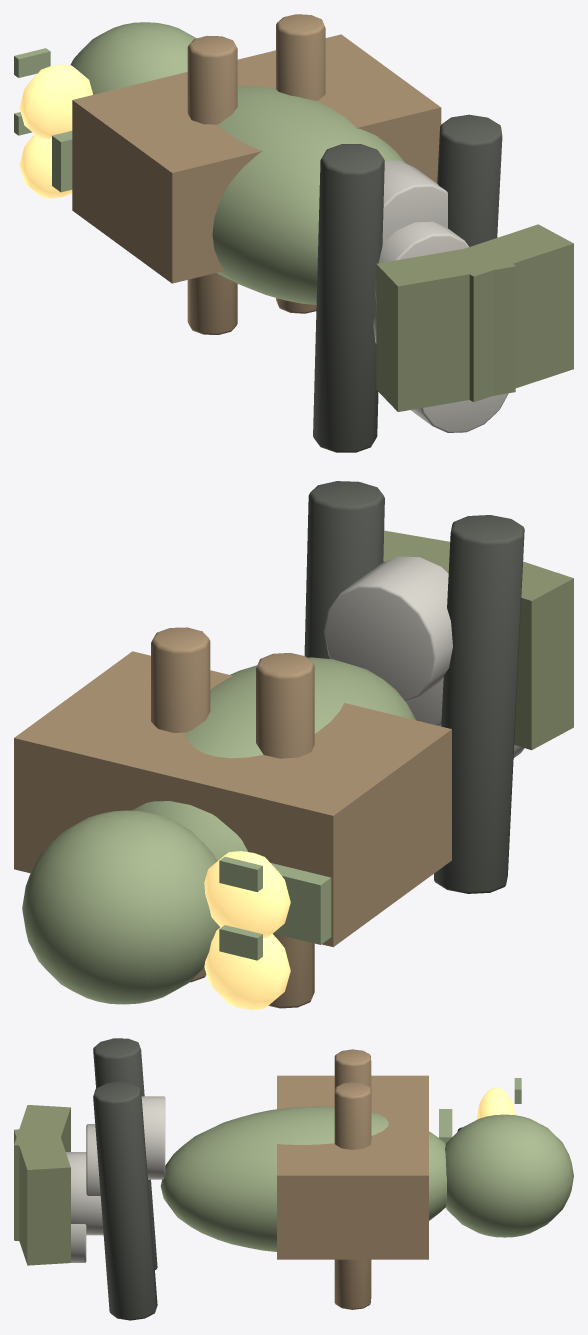
Rendered from jumper.glb.
3 renders of one model, top to bottom at view 1: azimuth 30°, elevation 25°; view 2: azimuth 150°, elevation 25°; view 3: azimuth 270°, elevation 25°, orthographic. The views are drawn at different scales.
Visible parts, largest first — view 1: chest, torso, leg, spring_boot_0, spring_boot_1, leg.001, arm, head, arm.001, eye.001, spring_3, spring_2 (+4 smaller); view 2: chest, head, leg, spring_3, torso, spring_boot_0, leg.001, arm, arm.001, eye.001, eye, mouth_band (+4 smaller); view 3: chest, torso, head, leg.001, spring_boot_1, arm.001, leg, spring_boot_0, spring_1, spring_3, arm, spring_2 (+3 smaller).
Part boxes in pixels (x1=…): chest: x1=72, y1=34, x2=441, y2=283; torso: x1=212, y1=85, x2=405, y2=304; leg: x1=313, y1=144, x2=384, y2=452; spring_boot_0: x1=376, y1=244, x2=515, y2=411; spring_boot_1: x1=440, y1=224, x2=573, y2=401; leg.001: x1=437, y1=114, x2=502, y2=246; arm: x1=187, y1=36, x2=237, y2=334; head: x1=70, y1=22, x2=196, y2=94; arm.001: x1=276, y1=14, x2=325, y2=313; eye.001: x1=19, y1=64, x2=92, y2=138; spring_3: x1=382, y1=160, x2=447, y2=243; spring_2: x1=374, y1=221, x2=468, y2=304; chest: x1=14, y1=651, x2=451, y2=947; head: x1=22, y1=810, x2=219, y2=1004; leg: x1=434, y1=515, x2=524, y2=893; spring_3: x1=324, y1=556, x2=452, y2=702; torso: x1=132, y1=657, x2=415, y2=861; spring_boot_0: x1=421, y1=542, x2=573, y2=750; leg.001: x1=304, y1=481, x2=384, y2=658; arm: x1=256, y1=653, x2=314, y2=1008; arm.001: x1=151, y1=627, x2=210, y2=982; eye.001: x1=204, y1=851, x2=290, y2=938; eye: x1=204, y1=927, x2=290, y2=1009; mouth_band: x1=271, y1=863, x2=331, y2=944; chest: x1=277, y1=1075, x2=428, y2=1259; torso: x1=160, y1=1106, x2=446, y2=1251; head: x1=445, y1=1114, x2=573, y2=1237; leg.001: x1=93, y1=1081, x2=157, y2=1320; spring_boot_1: x1=14, y1=1127, x2=70, y2=1265; arm.001: x1=334, y1=1082, x2=371, y2=1309; leg: x1=93, y1=1038, x2=157, y2=1269; spring_boot_0: x1=14, y1=1105, x2=70, y2=1240; spring_1: x1=66, y1=1152, x2=103, y2=1235; spring_3: x1=141, y1=1096, x2=165, y2=1179; arm: x1=334, y1=1049, x2=371, y2=1092; spring_2: x1=86, y1=1124, x2=100, y2=1195.
Bounding box in the file's own units: 0.5472 × 0.5623 × 1.28.
